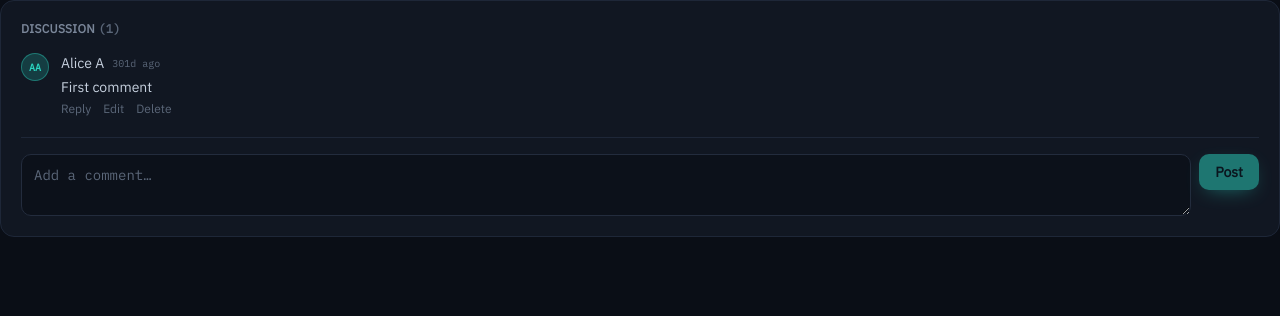
Test: Comments — editing › edits a comment and replaces it with the server response
The width and height of the screenshot is (1280, 316).
Click the button "Edit": coordinates (114, 109) top-left (103, 101), bottom-right (124, 117)
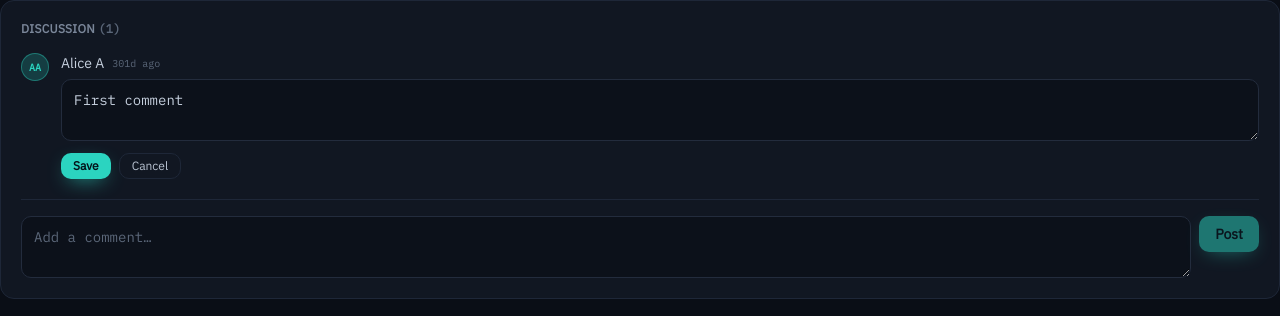
Replace the text in the text box showing "First comment" with "Edited body": coordinates (660, 110) top-left (61, 79), bottom-right (1259, 141)
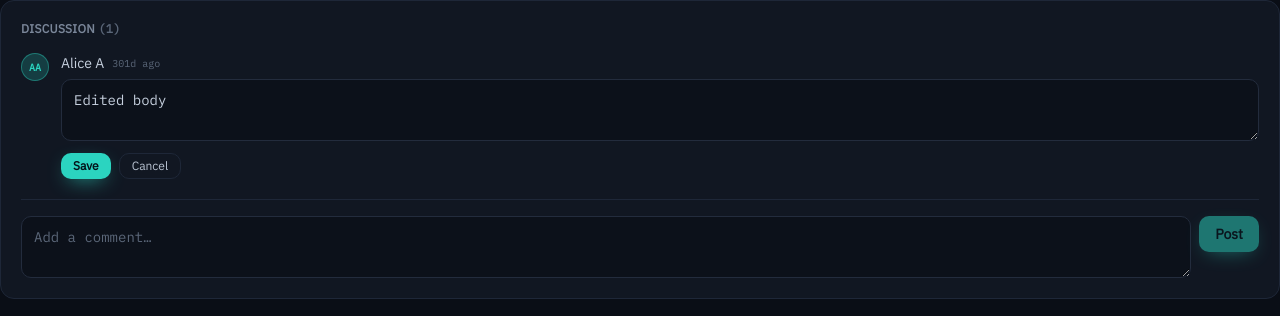
Click the button "Save": coordinates (86, 166) top-left (61, 153), bottom-right (111, 179)
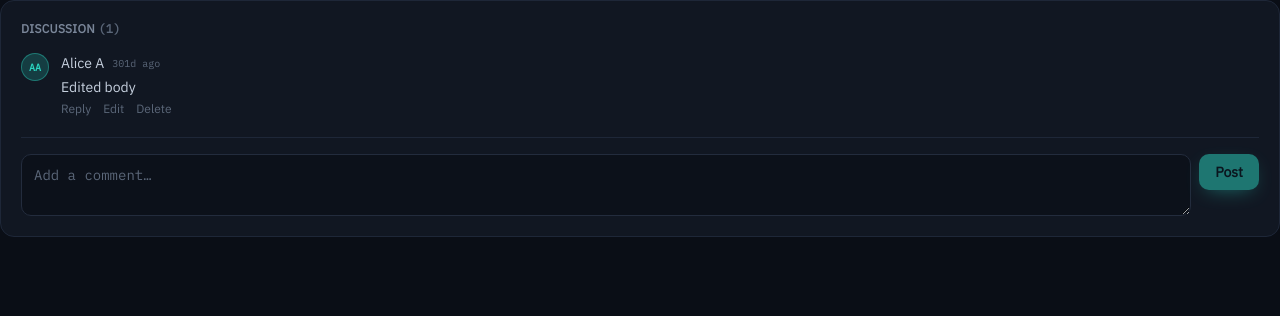
Expected: the text "Edited body" is shown, top-left (61, 78), bottom-right (136, 96)
